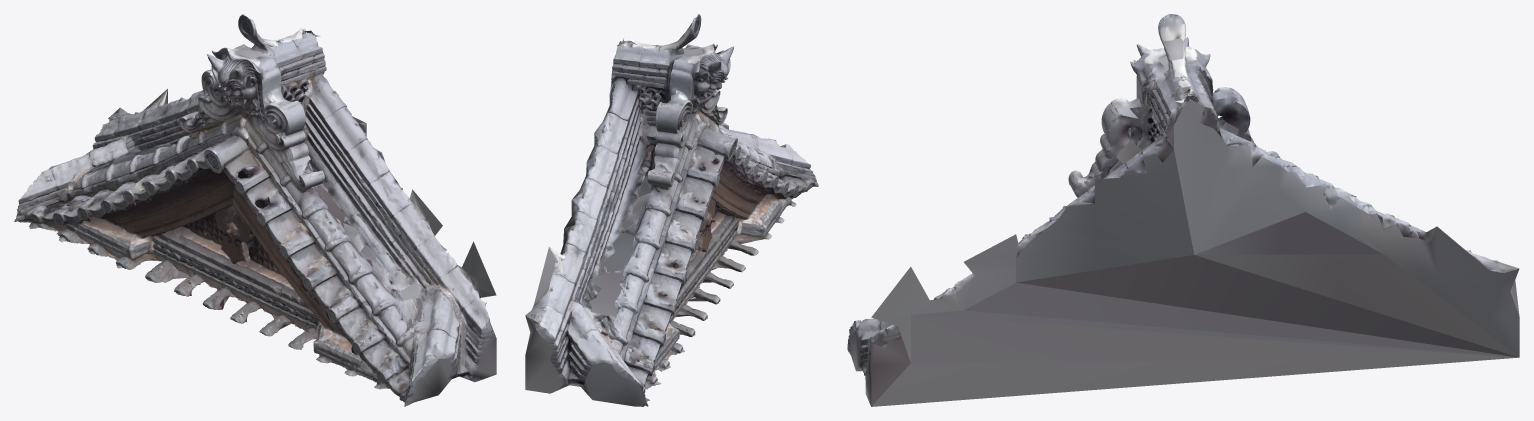
Rendered from source-objaverse.glb.
3 views of the same model, side by side, from view 1: azimuth 30°, elevation 25°; view 2: azimuth 150°, elevation 25°; view 3: azimuth 270°, elevation 25° (orthographic). The views are drawn at different scales.
Visible parts, largest first — view 1: Object_4, Object_2, Object_3; view 2: Object_4, Object_2, Object_3; view 3: Object_2, Object_4, Object_3.
Part boxes in pixels (<box>): Object_4: <box>27,15,496,406</box>; Object_2: <box>62,19,405,362</box>; Object_3: <box>14,14,401,303</box>; Object_4: <box>525,14,818,390</box>; Object_2: <box>546,20,771,376</box>; Object_3: <box>525,14,767,406</box>; Object_2: <box>1016,14,1519,357</box>; Object_4: <box>847,38,1518,406</box>; Object_3: <box>1022,14,1519,315</box>.
Bounding box in the file's own units: 13.29 × 17.76 × 33.
Materials: 2 (2 with a texture image).
